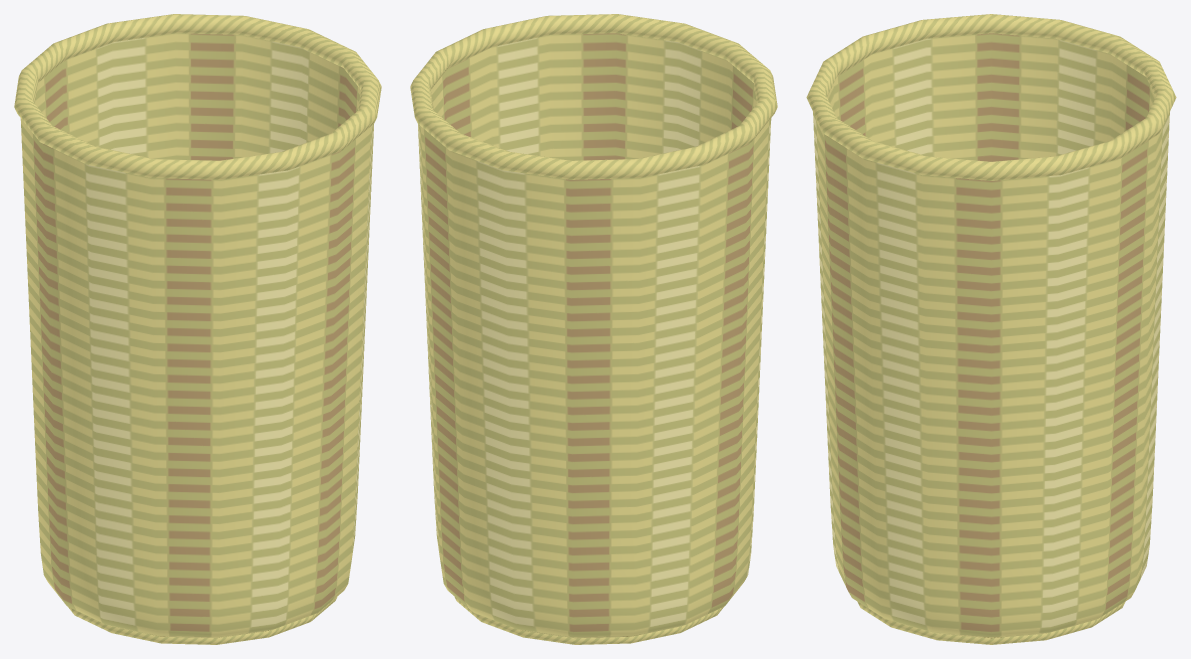
Rendered from basket.glb.
The picture shows the model from 3 angles, left to right: view 1: azimuth 30°, elevation 25°; view 2: azimuth 150°, elevation 25°; view 3: azimuth 270°, elevation 25°; orthographic projection.
Visible parts, largest first — view 1: basket; view 2: basket; view 3: basket.
Part boxes in pixels (x1,y1,x2,y2): basket: (14,14,381,644); basket: (410,14,777,644); basket: (806,14,1176,644).
Bounding box in the file's own units: 0.3178 × 0.4724 × 0.3176.
1 material, 1 textured.
